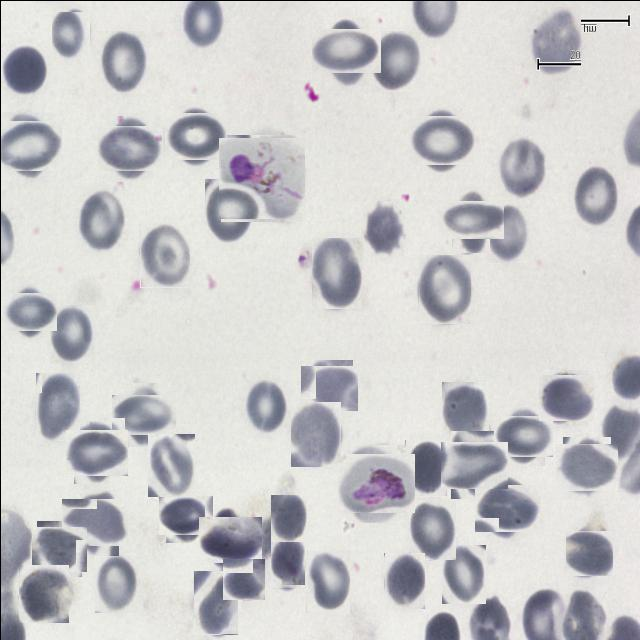difficult: (342, 448, 409, 516)
red blood cell: (417, 254, 470, 324), (529, 6, 580, 77), (311, 237, 361, 308), (412, 110, 469, 168), (0, 116, 56, 175), (139, 222, 189, 287), (290, 401, 340, 466), (317, 22, 374, 79), (444, 436, 502, 492), (496, 135, 545, 199), (101, 120, 157, 176), (478, 479, 534, 535), (66, 494, 122, 550), (204, 178, 252, 243), (34, 372, 79, 441), (98, 30, 146, 94), (370, 30, 419, 92), (167, 108, 222, 163), (559, 440, 614, 494), (69, 424, 123, 479), (202, 511, 256, 566), (147, 433, 194, 496), (572, 163, 618, 227), (78, 188, 124, 252), (18, 564, 68, 622), (192, 570, 237, 634), (408, 499, 455, 559), (441, 381, 488, 440), (306, 549, 350, 612), (117, 388, 170, 440), (444, 193, 496, 245), (303, 362, 355, 414), (441, 544, 485, 603), (94, 552, 137, 612), (49, 304, 93, 362), (540, 372, 591, 422), (33, 523, 84, 573), (486, 202, 528, 262), (498, 410, 548, 460), (0, 42, 47, 95), (404, 439, 446, 496), (383, 552, 424, 609), (244, 378, 286, 433), (363, 200, 403, 256), (566, 528, 612, 576), (162, 491, 208, 538), (5, 288, 52, 334), (51, 11, 89, 64), (222, 558, 264, 600), (269, 538, 304, 588), (270, 492, 306, 540)
trophozoite: (218, 136, 302, 220)
